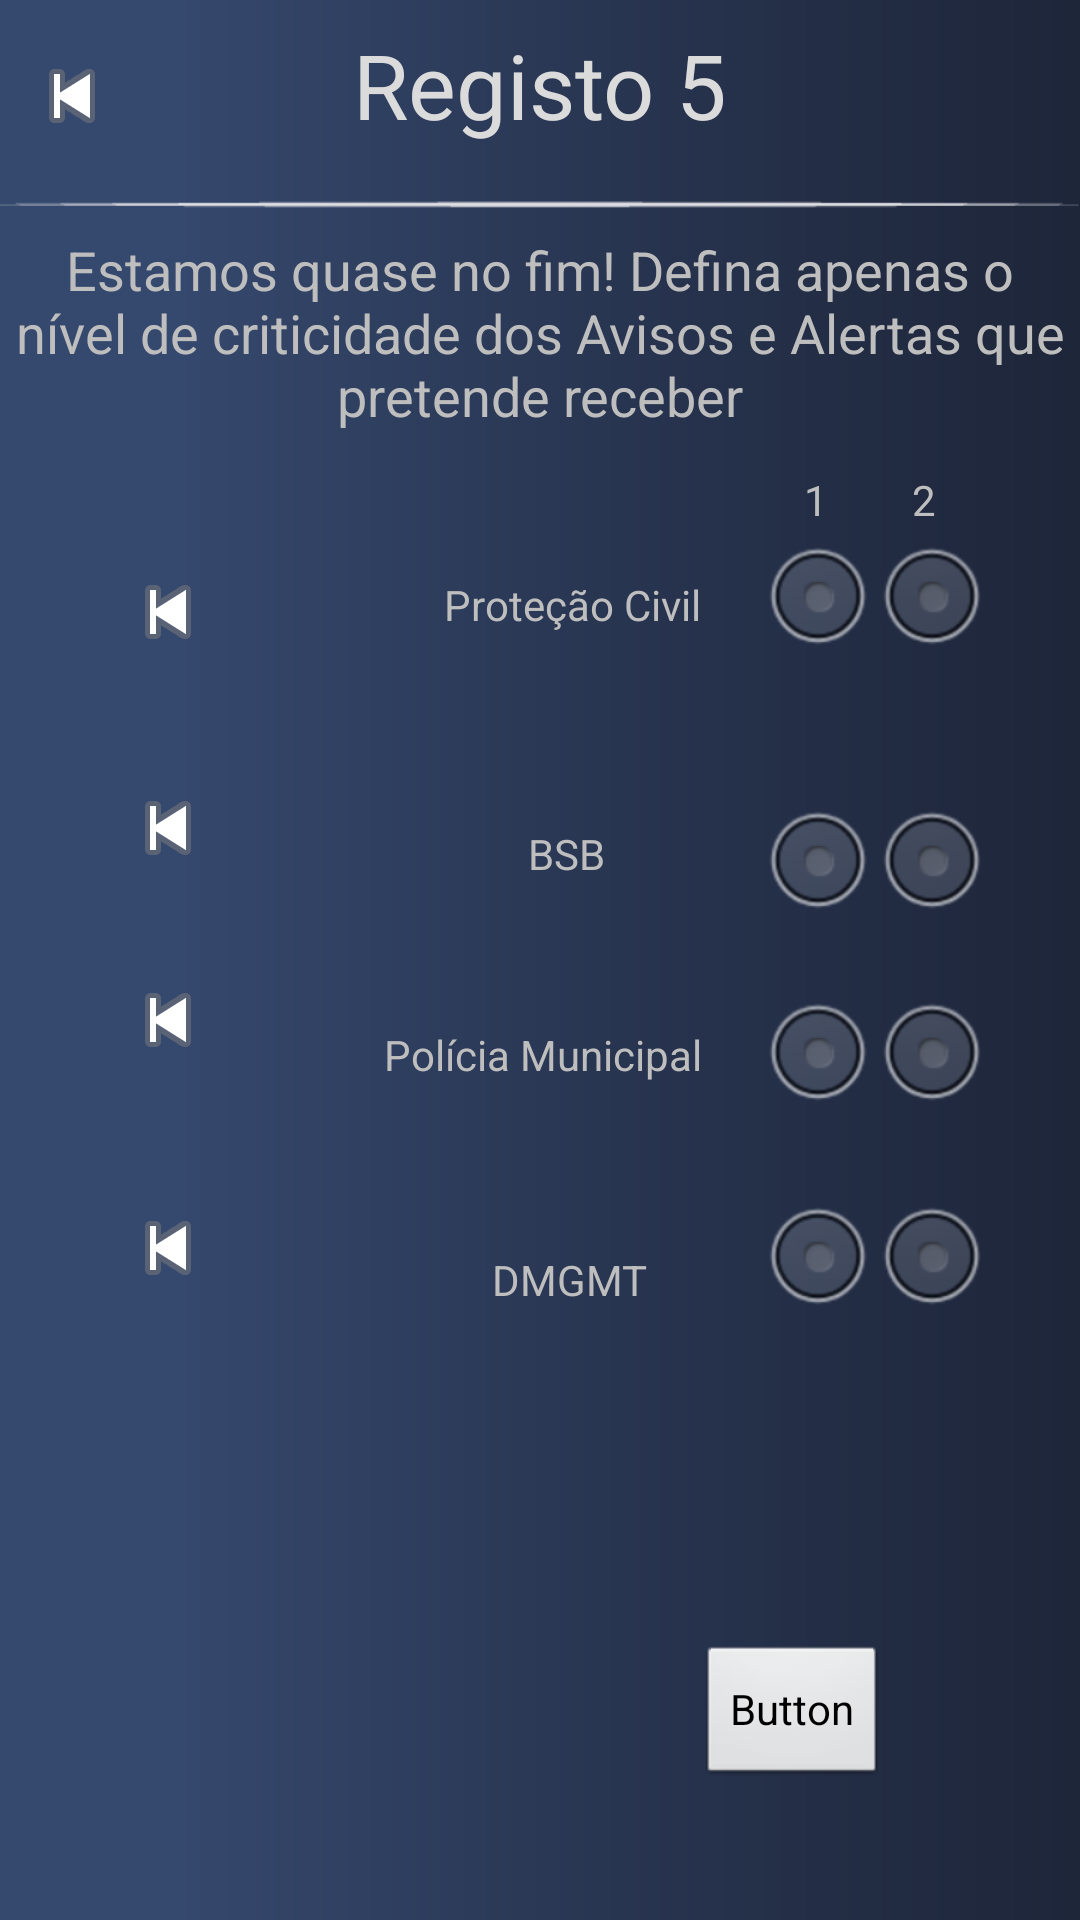

Named icons in this screenshot (1080x1920) and their centers, (x=x, y=y):
previous: (x=72, y=96), (x=168, y=612), (x=168, y=828), (x=168, y=1020), (x=168, y=1248)
